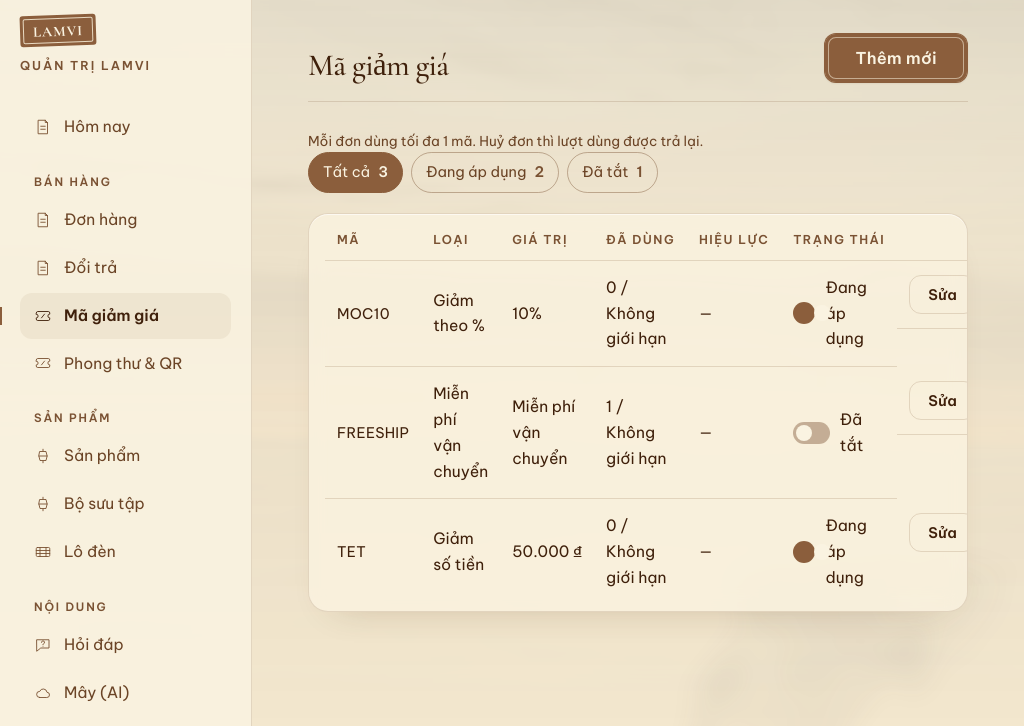
Mã giảm giá › aside mở khi bấm Thêm mới / Sửa và đóng khi Huỷ
The width and height of the screenshot is (1024, 726).
Expected: the text "MOC10" is shown, x1=337 y1=304 x2=390 y2=322
Click the button "Thêm mới": (896, 58) x1=824 y1=33 x2=968 y2=83
(page scrolled)
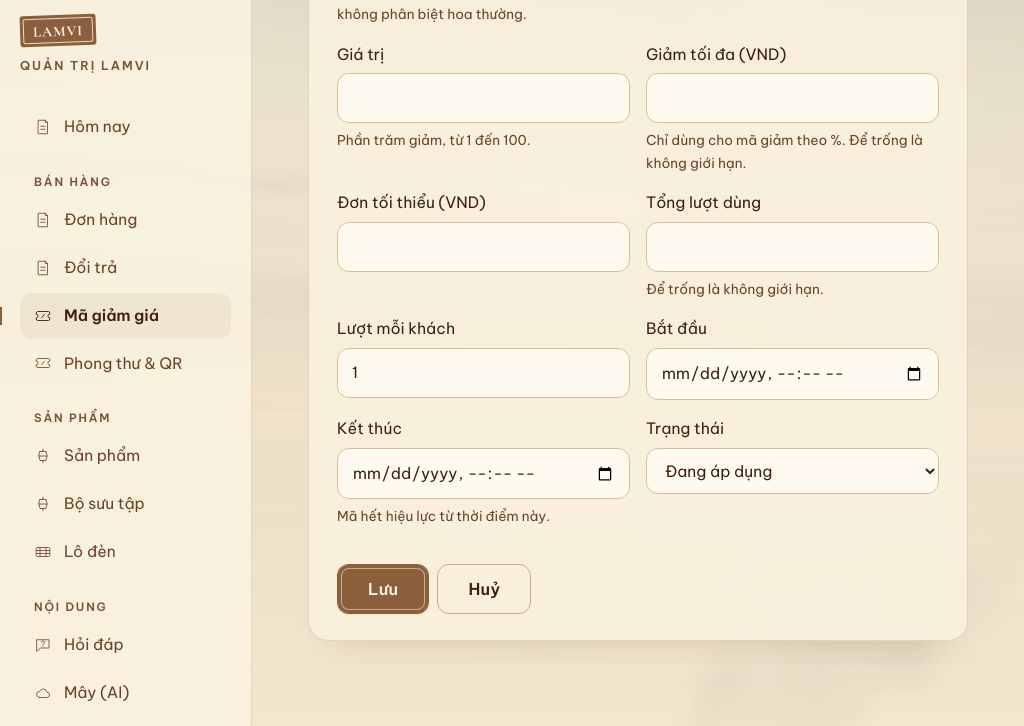
Click the button "Huỷ": (484, 589) x1=437 y1=564 x2=531 y2=614
(page scrolled)
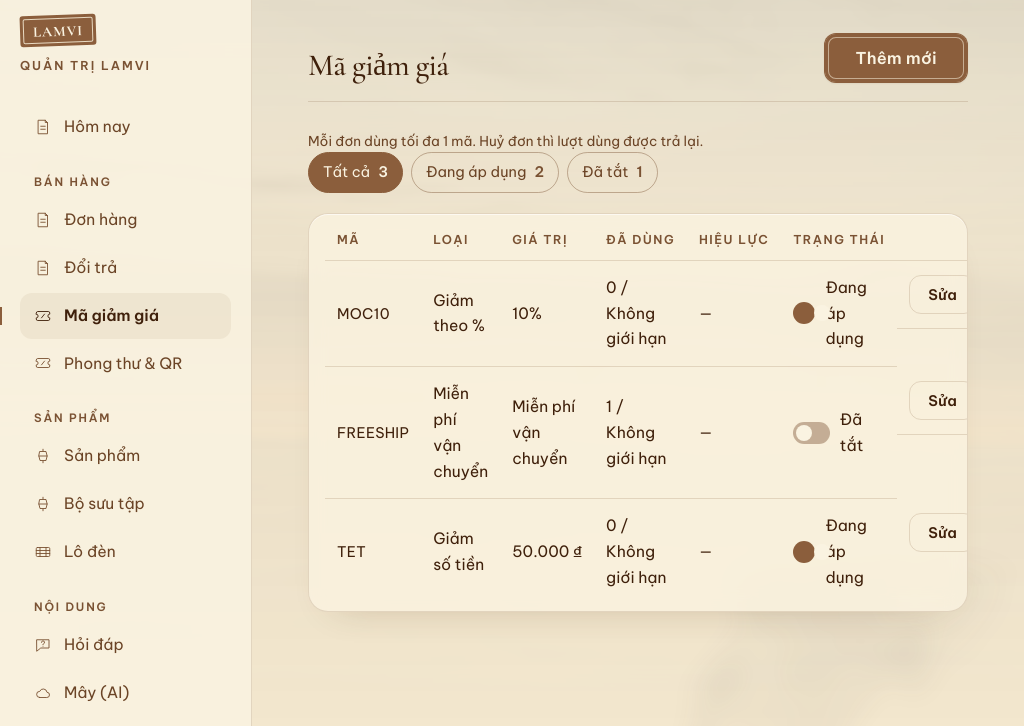
Click the button "Sửa" in the row of "TET": (943, 532) x1=909 y1=513 x2=976 y2=552
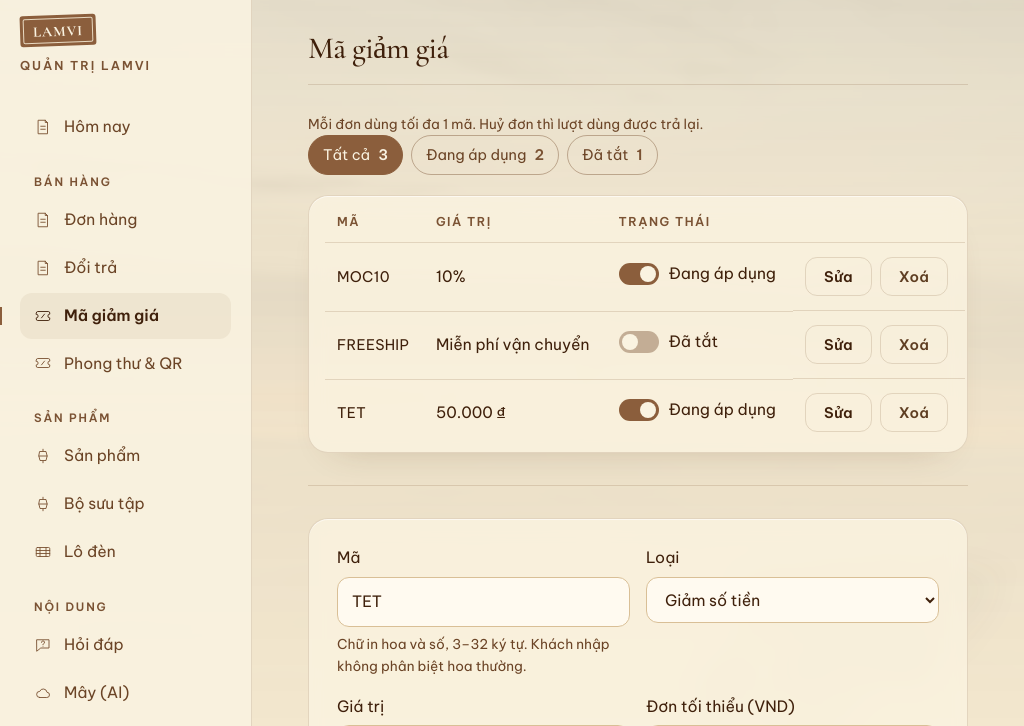
Expected: the field labelled "Mã" holds "TET", x1=337 y1=577 x2=630 y2=627
